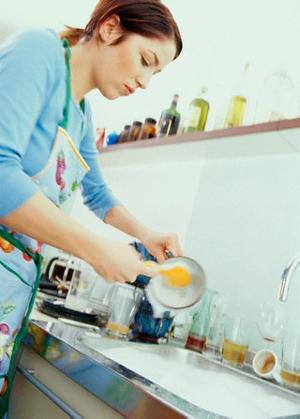person: (1, 1, 183, 419)
